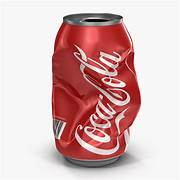coke: (40, 7, 153, 172)
